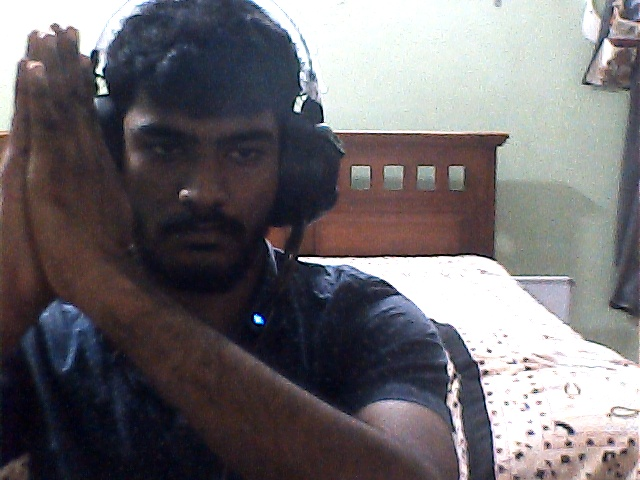Sign: (2, 22, 137, 315)
